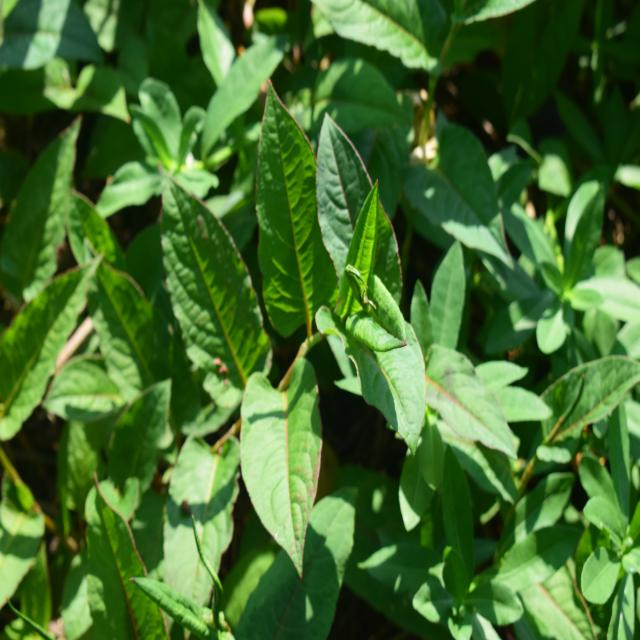Chinese_knotweed: (156, 120, 436, 554)
